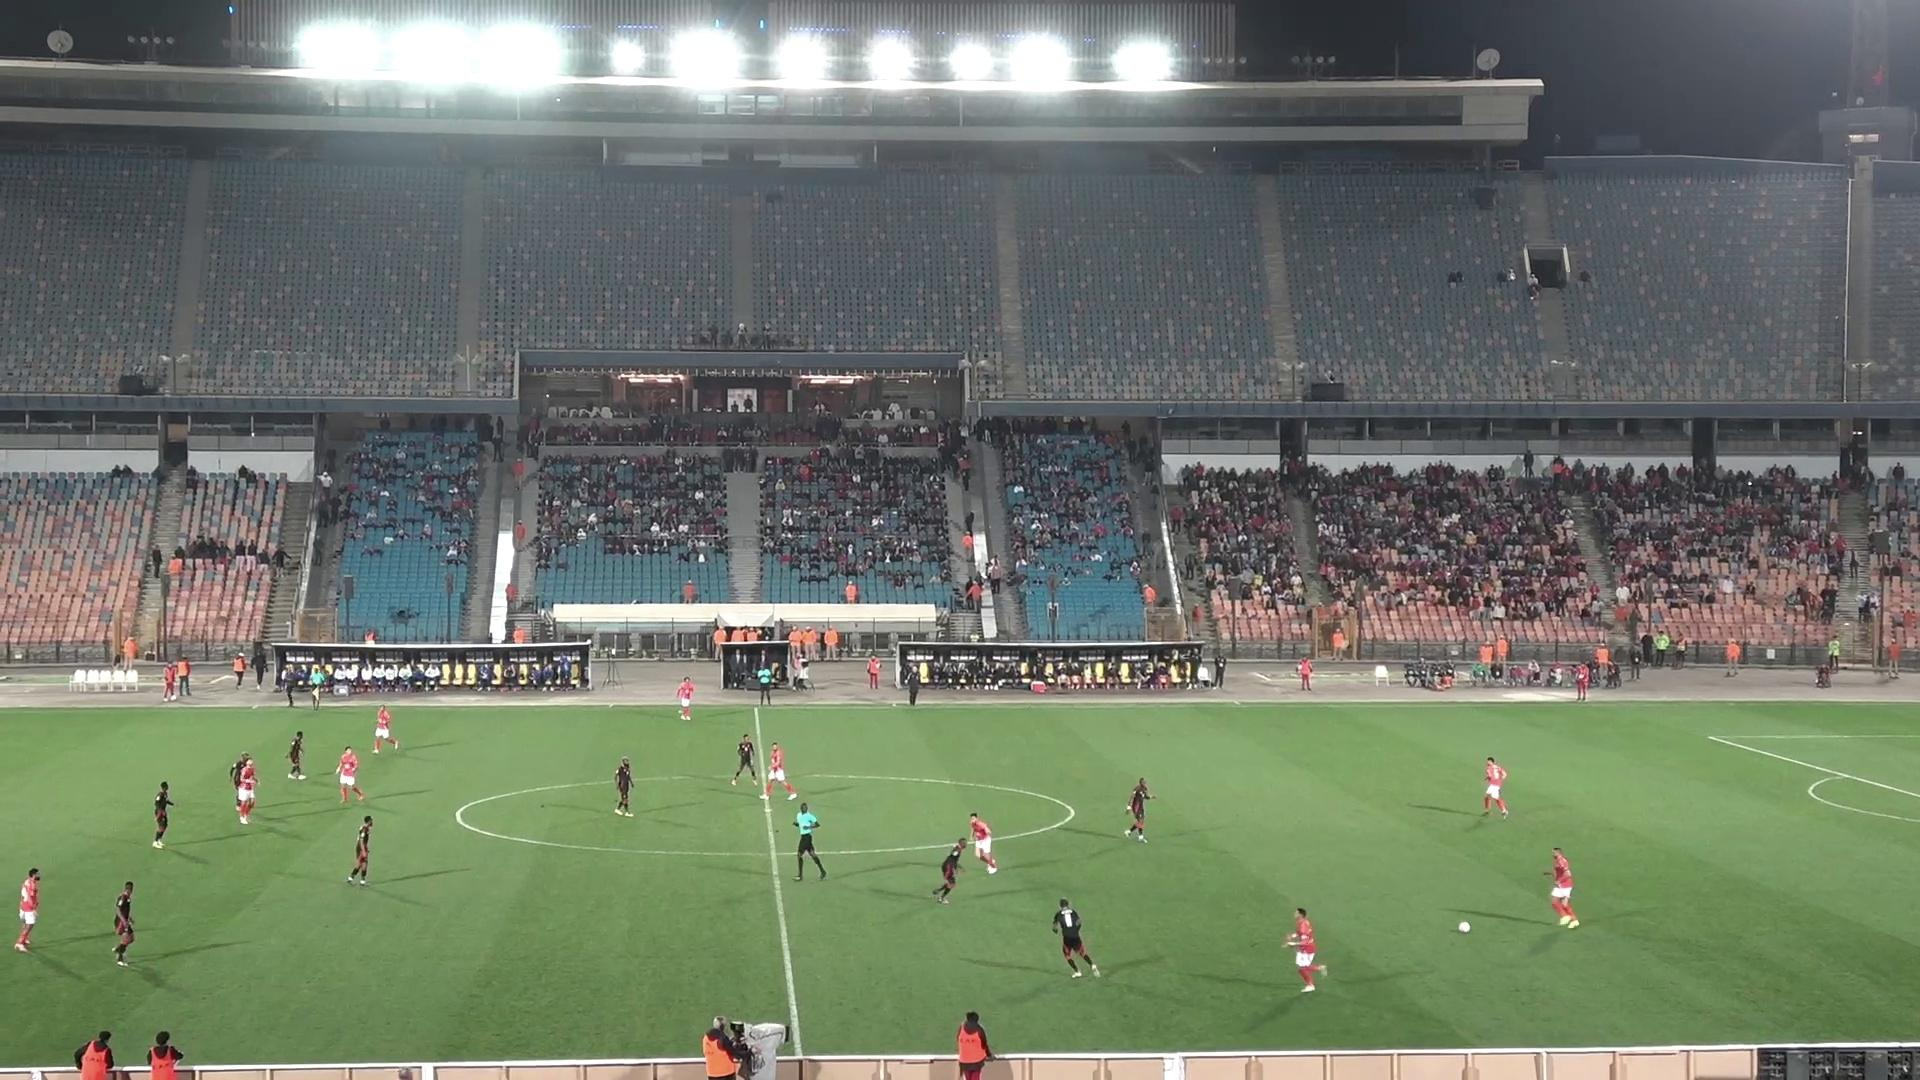Ball: (1453, 918, 1474, 938)
Refree: (793, 802, 828, 880), (746, 658, 777, 705), (309, 661, 330, 708)
Team1: (1283, 907, 1325, 992), (957, 814, 998, 873), (1551, 848, 1578, 926), (15, 869, 40, 952), (762, 742, 796, 799), (229, 752, 256, 824), (335, 746, 365, 803), (1481, 757, 1509, 816), (375, 705, 400, 752), (676, 676, 695, 721)
Team2: (1052, 898, 1098, 976), (932, 841, 967, 903), (113, 881, 135, 967), (1125, 778, 1153, 843), (345, 815, 371, 885), (150, 782, 174, 849), (731, 733, 760, 785), (613, 756, 633, 816), (287, 731, 306, 781)
